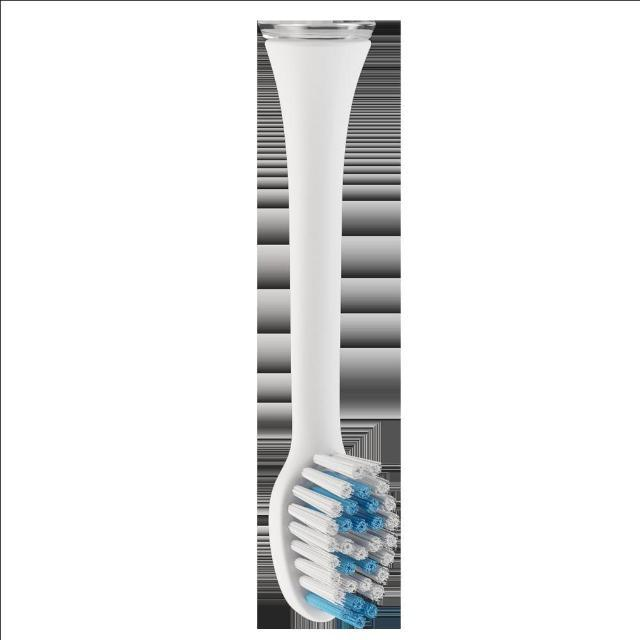toothbrush: (258, 21, 400, 629)
